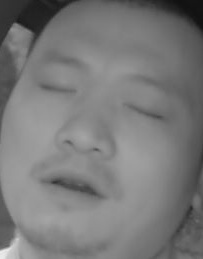blink: (123, 97, 166, 123), (33, 77, 77, 100)
mouth: (36, 162, 113, 209)
